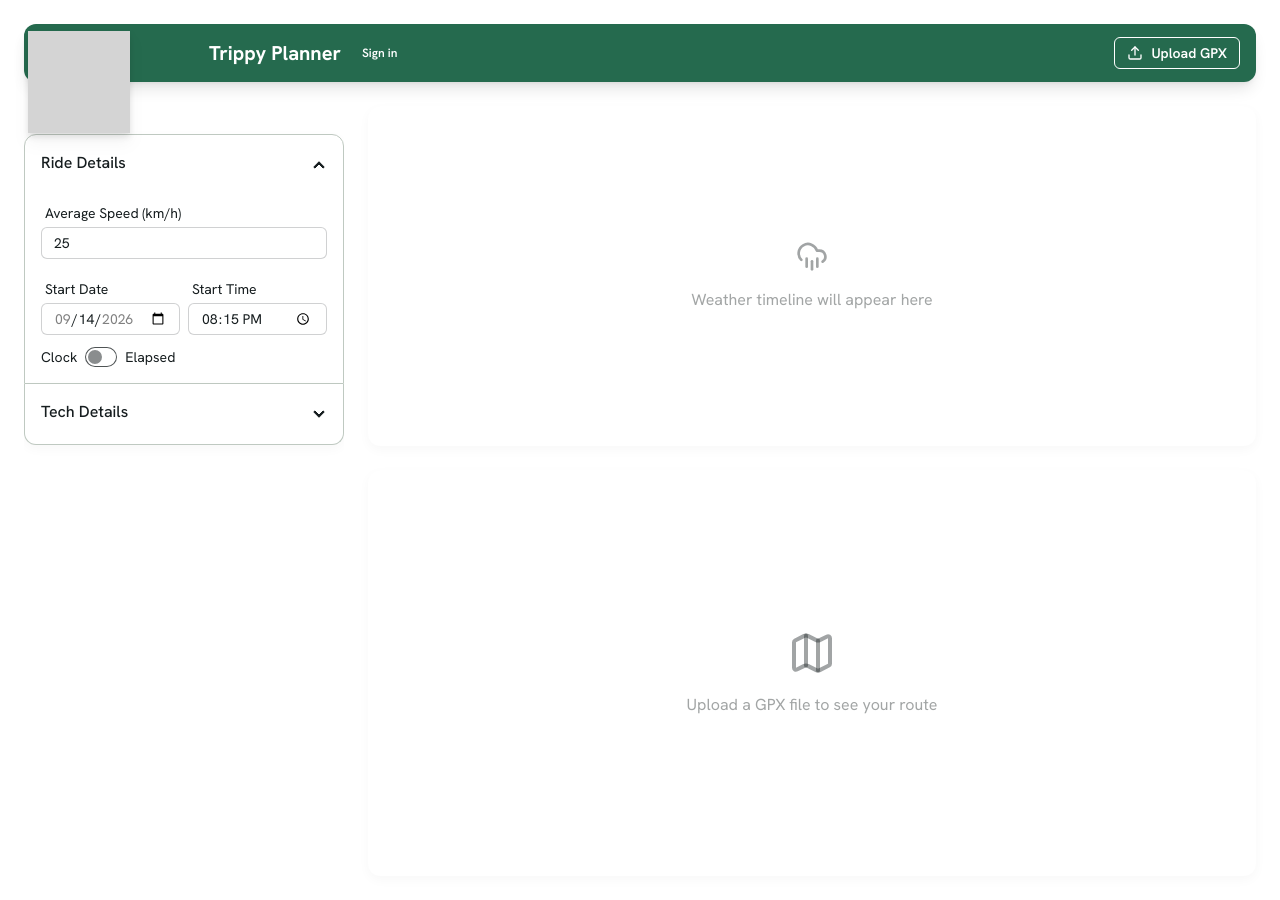
backend version display › shows nothing for the backend version when the fetch fails
Step 1. Click the text "Tech Details" → click(85, 412), box [41,401,128,422]
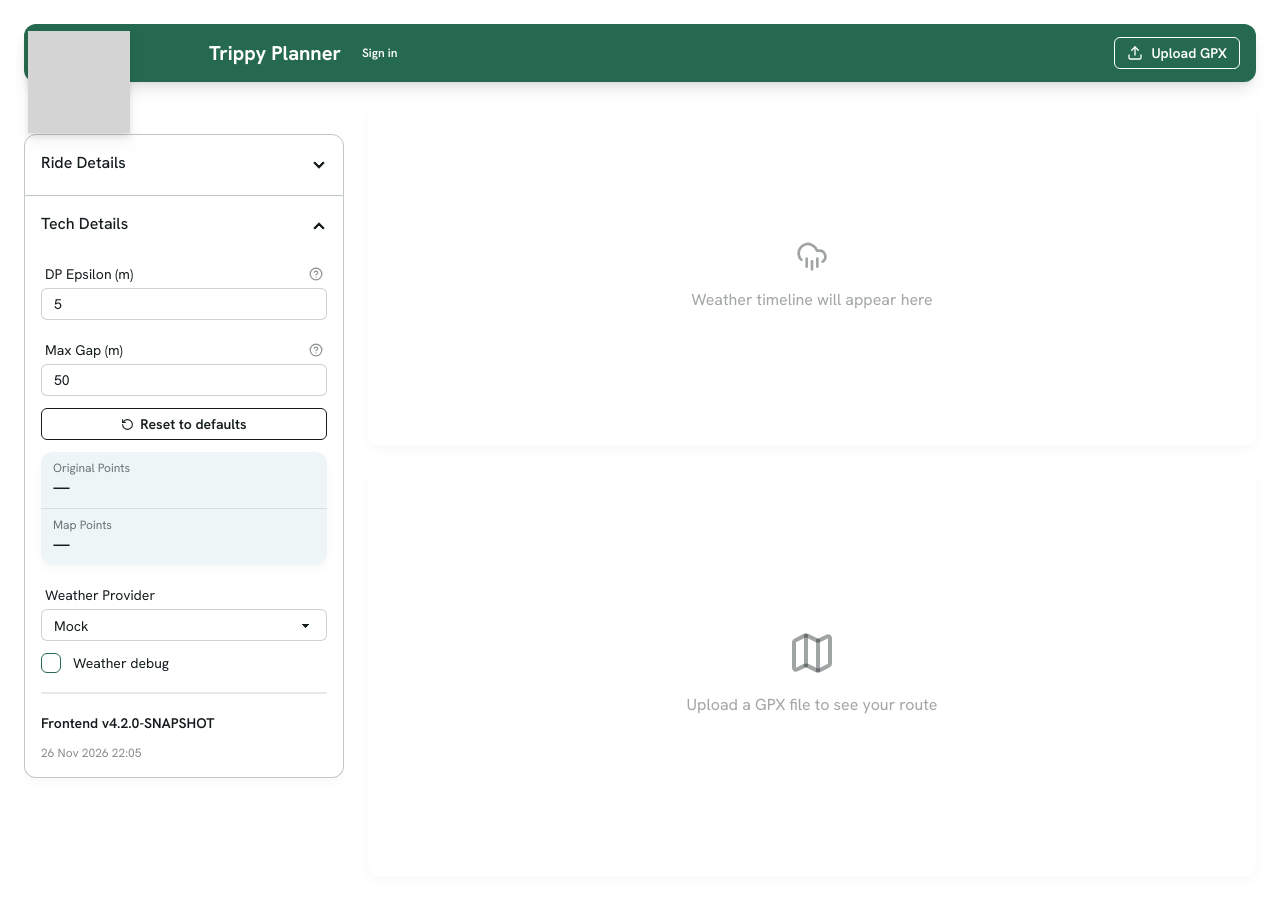
Expected: the text "Frontend v" is shown, [41,714,109,732]
